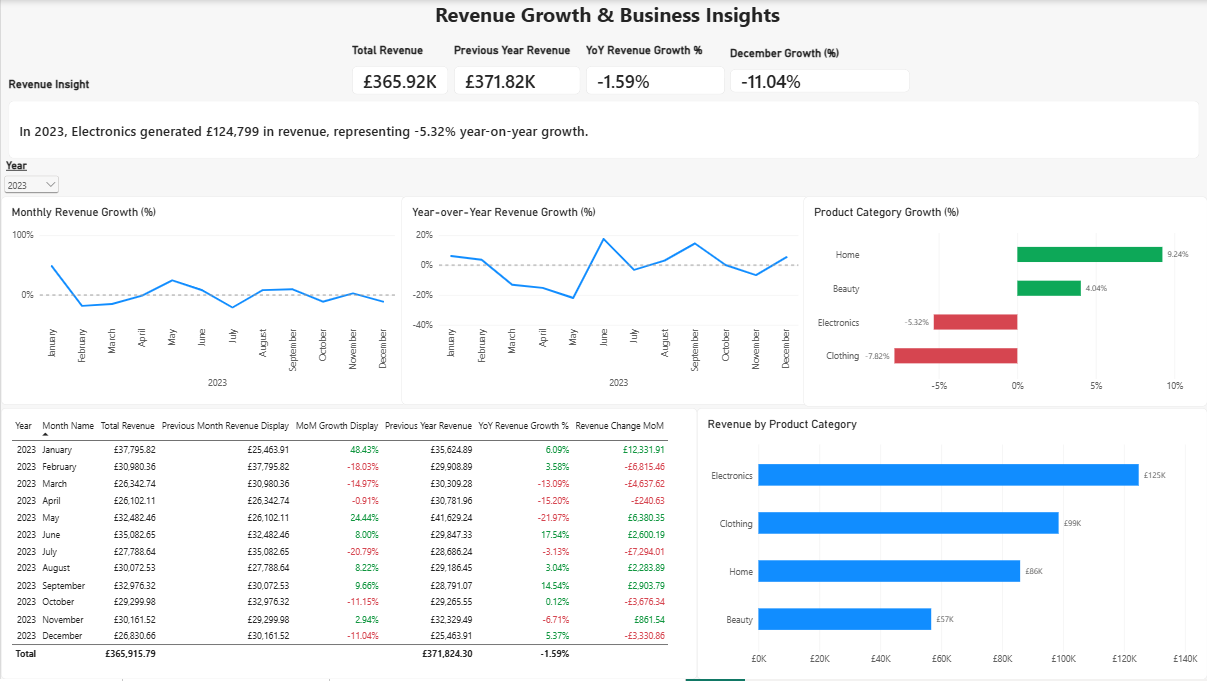

The page's visual inventory and layout, read from the dashboard file:
{"tool":"powerbi","page":{"name":"Revenue Growth & Business Insights","canvas":[1920,1080],"ordinal":2},"visuals":[{"type":"textbox","box":[10,0,1910,70],"z":0},{"type":"cardVisual","title":"Total Revenue","fields":{"Data":["FactSales.Total Revenue"]},"box":[558.3,69.2,153.2,81.1],"z":0,"group":"g1"},{"type":"cardVisual","title":"Previous Year Revenue","fields":{"Data":["CustomerSegments.Previous Year Revenue"]},"box":[719.6,69.2,201.8,81.1],"z":1000,"group":"g1"},{"type":"tableEx","fields":{"Values":["DimDate.Year","DimDate.Month Name","FactSales.Total Revenue","CustomerSegments.Previous Month Revenue Display","CustomerSegments.MoM Growth Display","CustomerSegments.Previous Year Revenue","CustomerSegments.YoY Revenue Growth %","CustomerSegments.Revenue Change MoM"]},"box":[0,649.3,1107.4,431.2],"z":1000},{"type":"cardVisual","title":"YoY Revenue Growth %","fields":{"Data":["CustomerSegments.YoY Revenue Growth %"]},"box":[929.5,69.2,221.3,81.1],"z":2000,"group":"g1"},{"type":"lineChart","title":"Monthly Revenue Growth (%)","fields":{"Category":["DimDate.Year","DimDate.Month Name"],"Y":["CustomerSegments.MoM Revenue Growth %"]},"box":[0,312.6,644.2,331.6],"z":2000},{"type":"cardVisual","title":"December Growth (%)","fields":{"Data":["CustomerSegments.Latest Month MoM Growth %"]},"box":[1158.9,74.9,286.9,74],"z":3000,"group":"g1"},{"type":"slicer","fields":{"Values":["DimDate.Year"]},"box":[0,252.5,96.8,60.5],"z":3000},{"type":"lineChart","title":"Year-over-Year Revenue Growth (%)","fields":{"Category":["DimDate.Year","DimDate.Month Name"],"Y":["CustomerSegments.YoY Revenue Growth %"]},"box":[635.8,312.6,649,331.6],"z":4000},{"type":"clusteredBarChart","title":"Revenue by Product Category","fields":{"Category":["FactSales.product_category"],"Y":["FactSales.Total Revenue"]},"box":[1107.1,649,813.6,431.9],"z":5000},{"type":"clusteredBarChart","title":"Product Category Growth (%)","fields":{"Category":["FactSales.product_category"],"Y":["CustomerSegments.YoY Revenue Growth %"]},"box":[1275.8,312.6,644.2,334],"z":6000},{"type":"cardVisual","title":"Revenue Insight","fields":{"Data":["CustomerSegments.Revenue Insight"]},"box":[12.8,124.1,1894.4,128.8],"z":7000},{"type":"group","id":"g1","title":"Group 1","box":[558.3,69.2,887.6,81.1],"z":7005}]}

Visuals, with their boxes in screenshot pixels (x1, y1, x2, y2), scaled from the page's 1920x1080 canvas onto the 1207x681 screenshot:
textbox: [6,0,1206,44]
"Total Revenue" cardVisual: [351,44,447,95]
"Previous Year Revenue" cardVisual: [452,44,579,95]
tableEx - DimDate.Year x DimDate.Month Name: [0,409,696,680]
"YoY Revenue Growth %" cardVisual: [584,44,723,95]
"Monthly Revenue Growth (%)" lineChart: [0,197,405,406]
"December Growth (%)" cardVisual: [729,47,909,94]
slicer - DimDate.Year: [0,159,61,197]
"Year-over-Year Revenue Growth (%)" lineChart: [400,197,808,406]
"Revenue by Product Category" clusteredBarChart: [696,409,1206,680]
"Product Category Growth (%)" clusteredBarChart: [802,197,1206,408]
"Revenue Insight" cardVisual: [8,78,1199,159]
"Group 1" group: [351,44,909,95]
